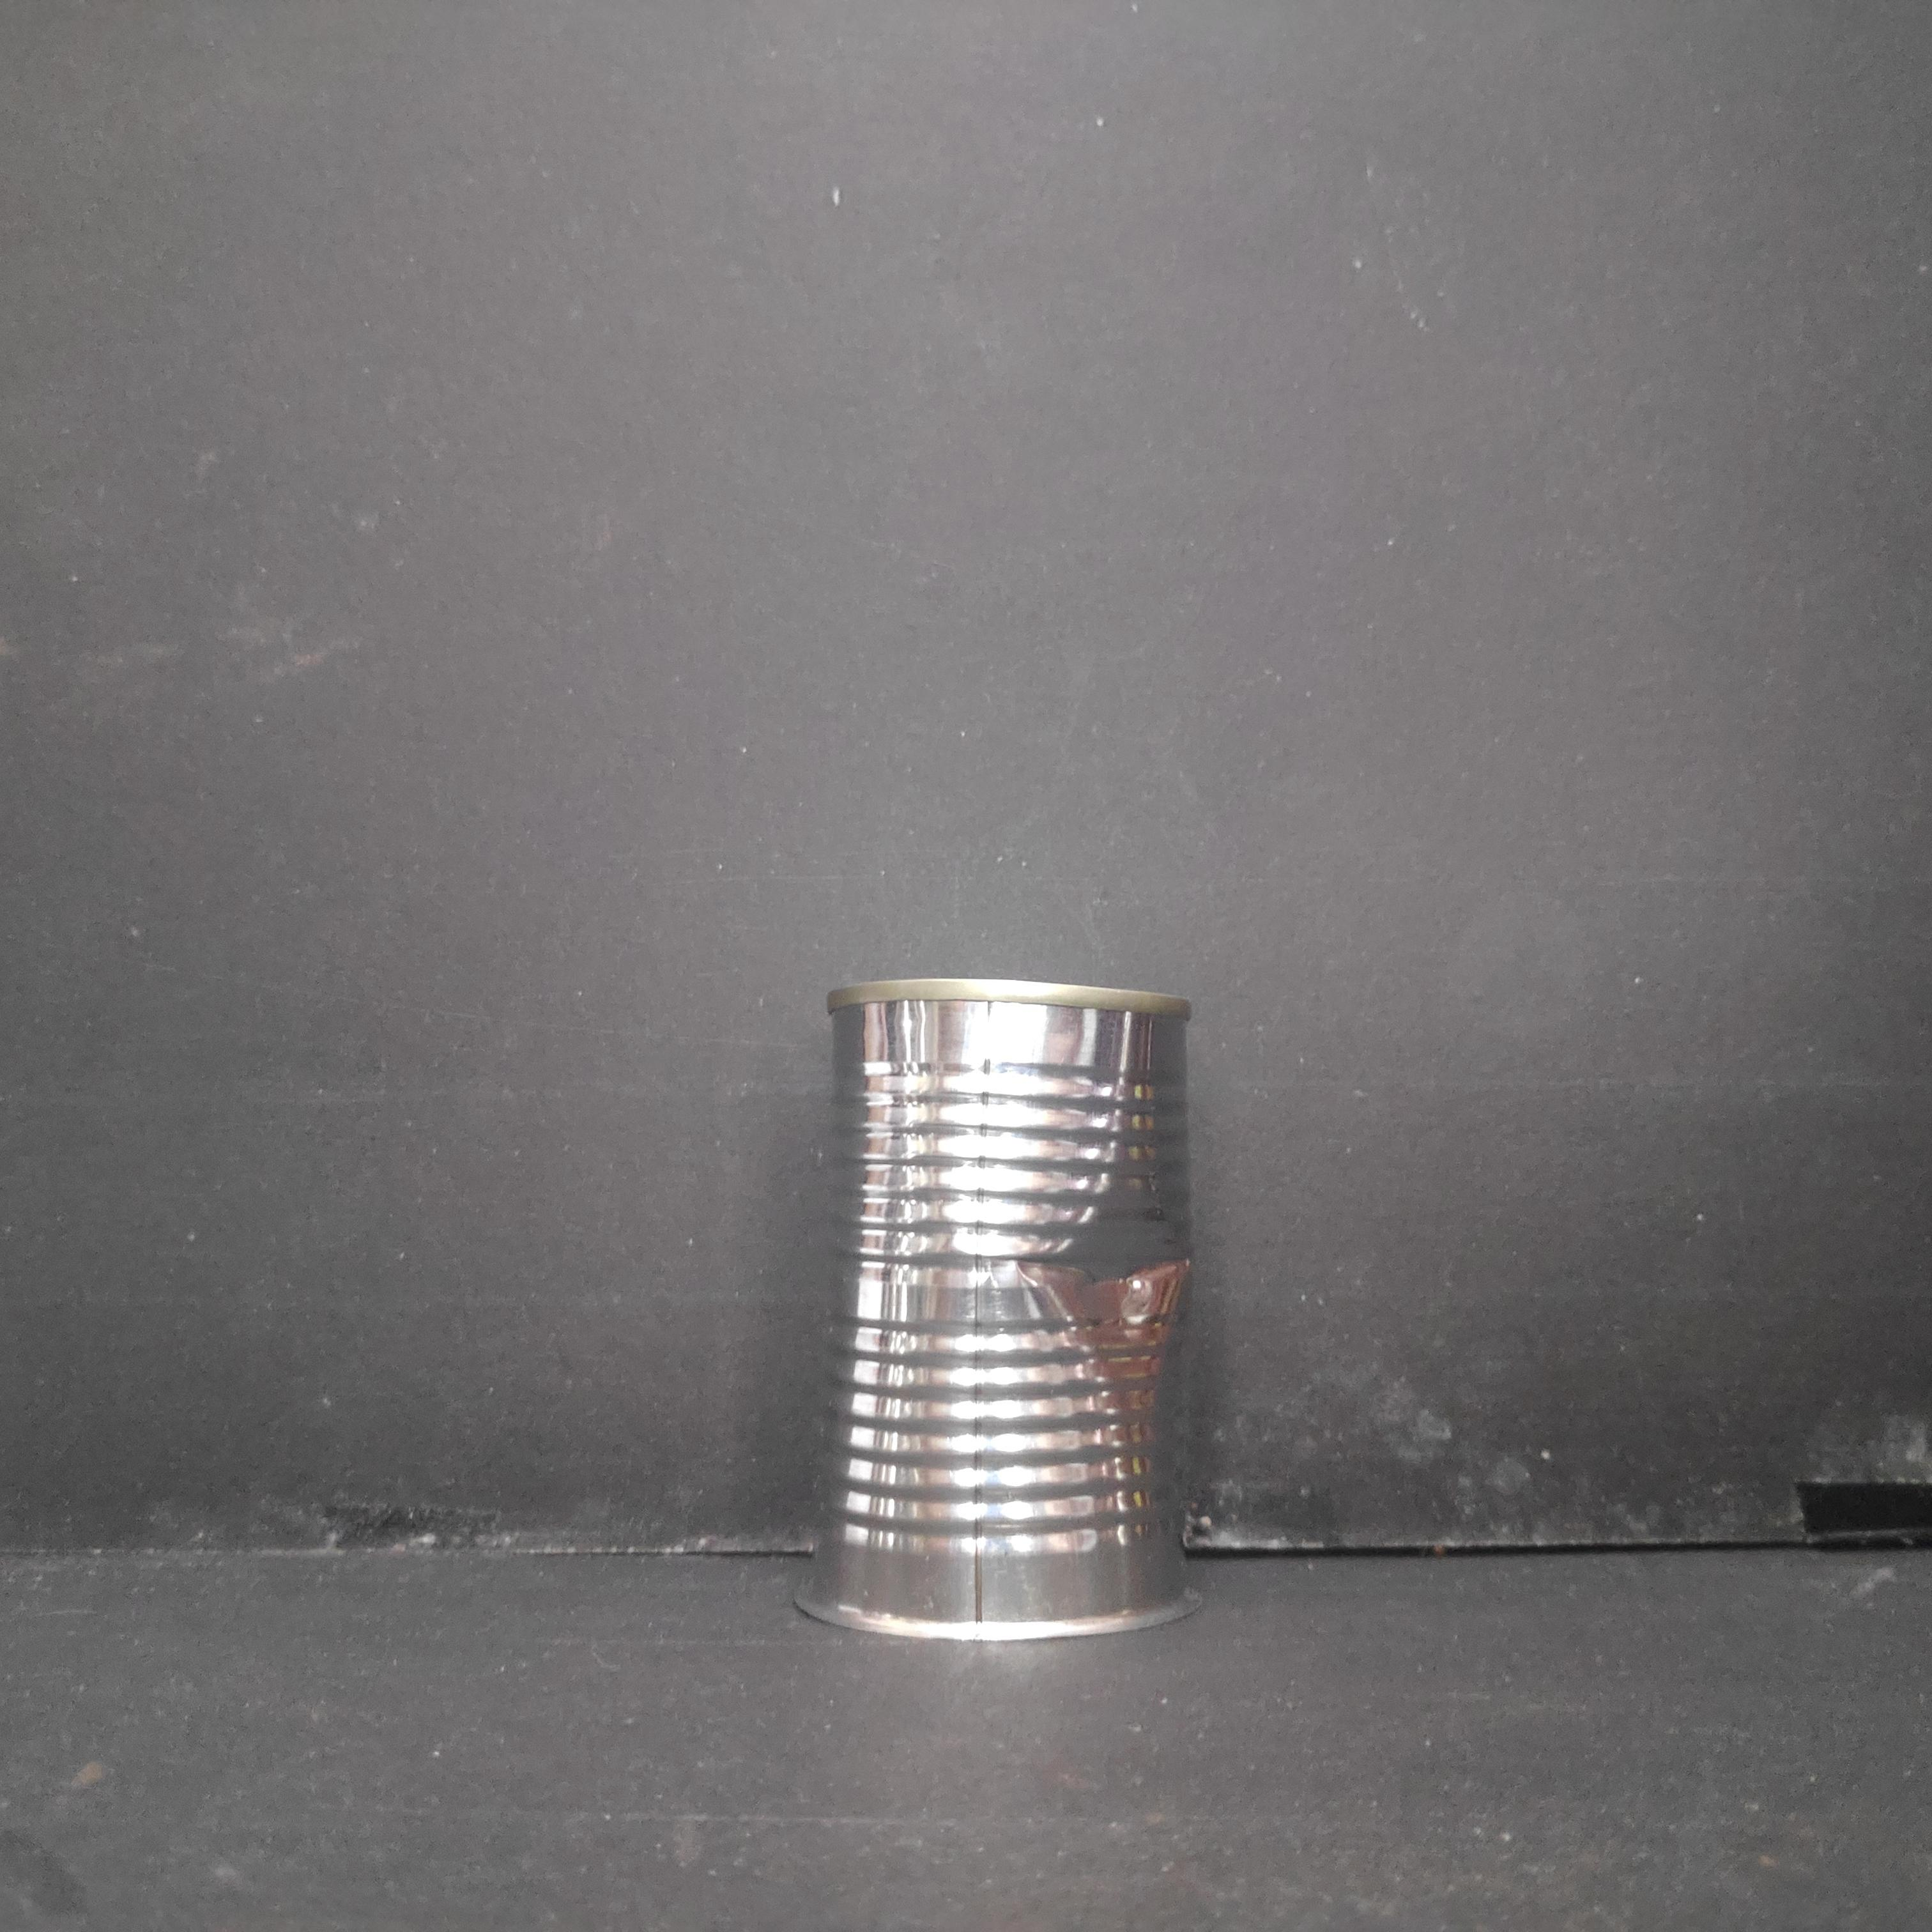Minor Defect: (796, 959, 1205, 1658)
